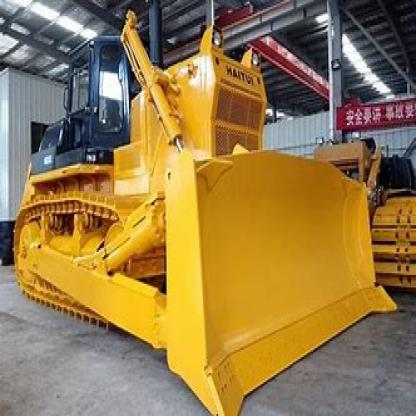bull_dozer/loader/grader: (6, 4, 397, 414)
